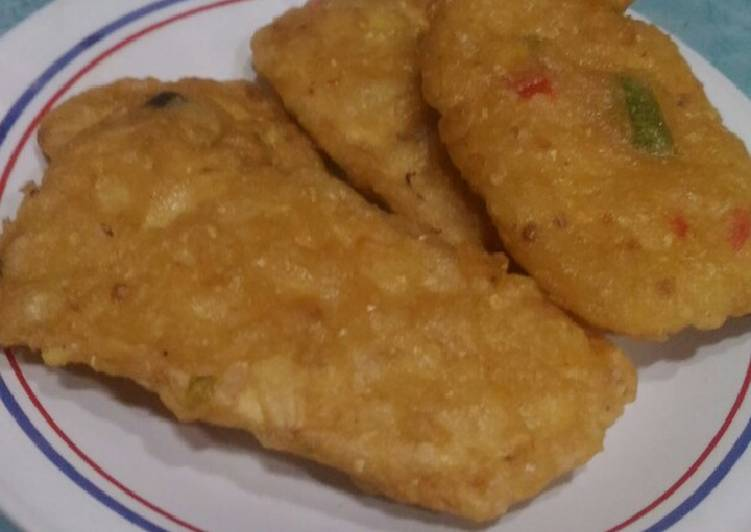Tempe: (12, 69, 591, 523), (420, 37, 744, 348), (261, 31, 458, 206)
